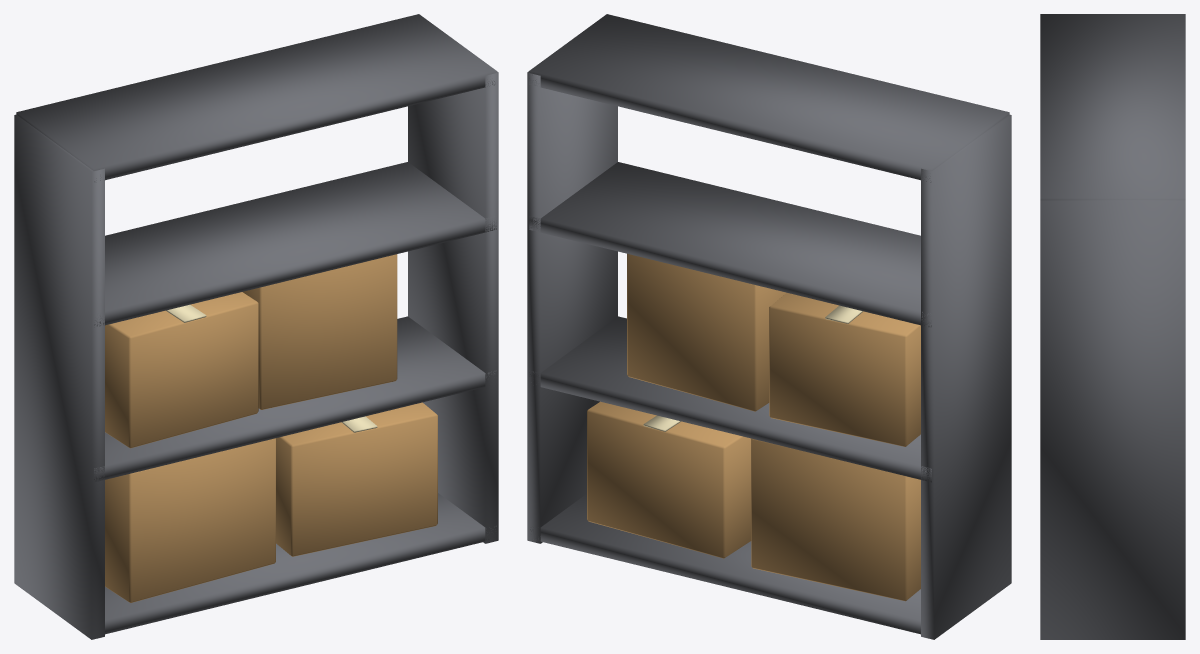
File: prop_shelf.glb
3 renders of one model, left to right at view 1: azimuth 30°, elevation 25°; view 2: azimuth 150°, elevation 25°; view 3: azimuth 270°, elevation 25°, orthographic. The views are drawn at different scales.
Visible parts, largest first — view 1: prop_shelf; view 2: prop_shelf; view 3: prop_shelf.
Part boxes in pixels (box(x1,y1,x2,y2)): prop_shelf: box(14, 14, 498, 639); prop_shelf: box(527, 14, 1011, 639); prop_shelf: box(1040, 14, 1185, 639).
Bounding box in the file's own units: 0.91 × 1 × 0.3.
